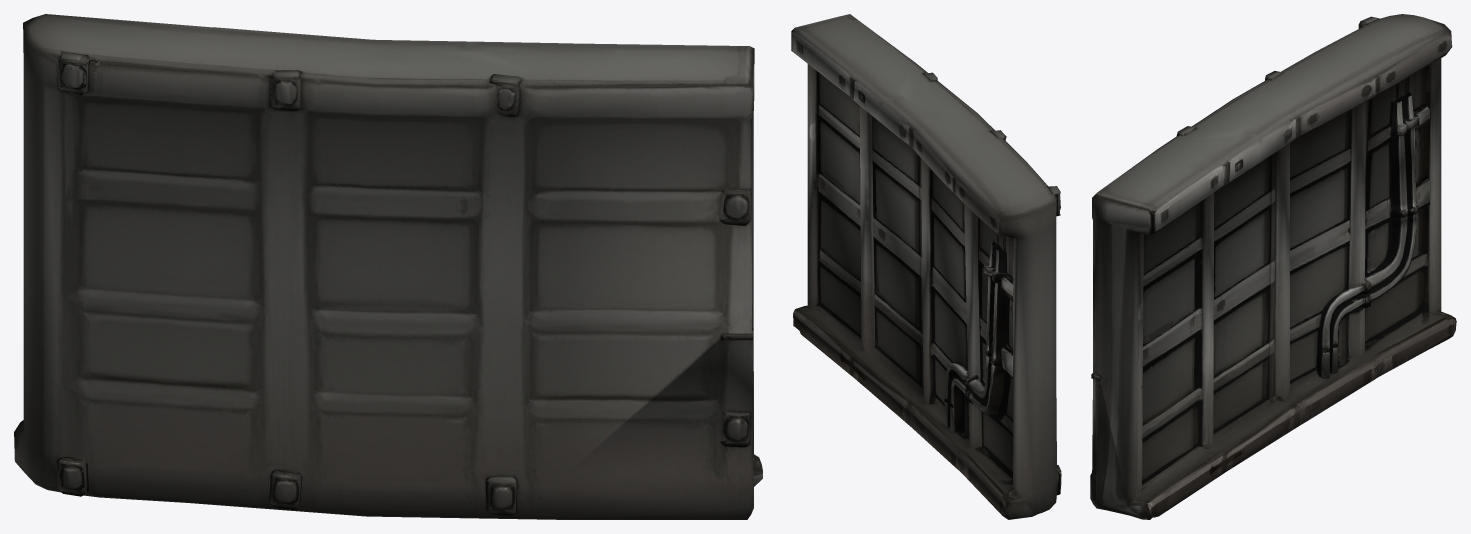
File: tripo_convert_aeafb357-c91b-4cb7-9abc-924060105da1.fbx
The picture shows the model from 3 angles, left to right: view 1: azimuth 30°, elevation 25°; view 2: azimuth 150°, elevation 25°; view 3: azimuth 270°, elevation 25°; orthographic projection. The views are drawn at different scales.
Visible parts, largest first — view 1: tripo_node_aeafb357; view 2: tripo_node_aeafb357; view 3: tripo_node_aeafb357.
Part boxes in pixels (bbox=[...]): tripo_node_aeafb357: bbox=[14, 14, 762, 519]; tripo_node_aeafb357: bbox=[791, 14, 1061, 519]; tripo_node_aeafb357: bbox=[1090, 14, 1456, 519].
Size of the model in its own units: 0.998 by 0.7754 by 0.8027.
Materials: 1 (1 with a texture image).
